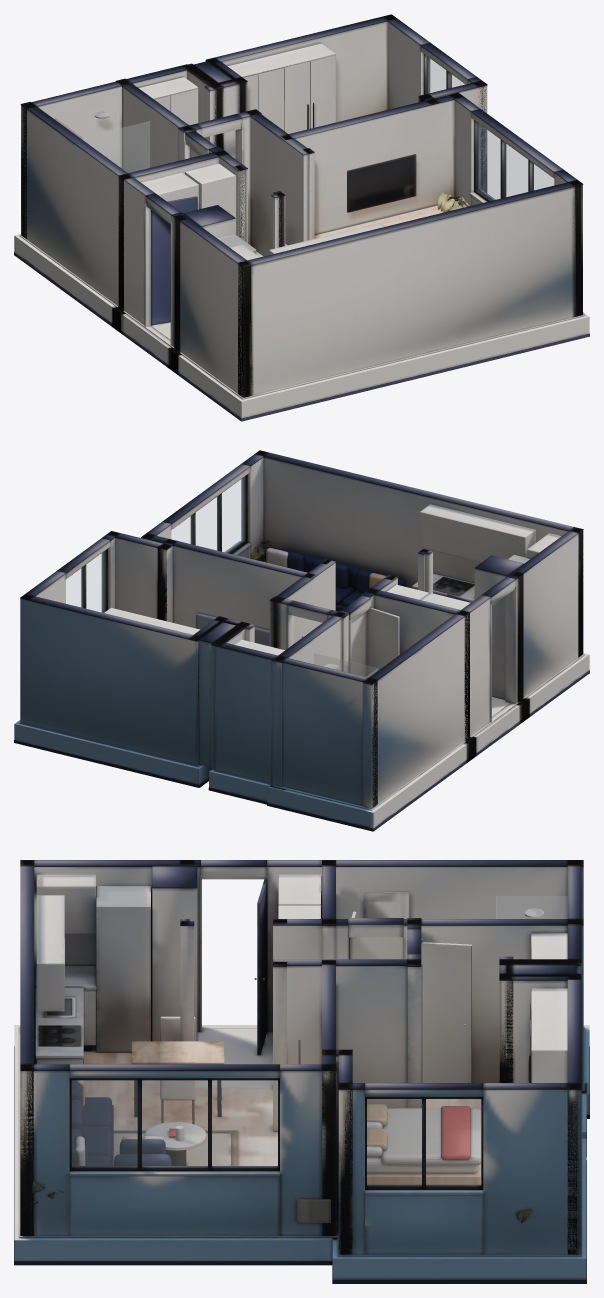
3 views of the same model, one above another, from view 1: azimuth 30°, elevation 25°; view 2: azimuth 150°, elevation 25°; view 3: azimuth 270°, elevation 25° (orthographic). The views are drawn at different scales.
Visible parts, largest first — view 1: plan, glass0_m, sg.001_m, glass1_m; view 2: plan, glass0_m, glass1_m, sg.001_m; view 3: plan, glass0_m, glass1_m, sg_m.
Part boxes in pixels (x1,y1,x2,y2): plan: (14,14,589,421); glass0_m: (476,122,553,200); sg.001_m: (82,121,149,172); glass1_m: (426,56,464,93); plan: (14,450,589,831); glass0_m: (171,477,244,552); glass1_m: (66,551,105,612); sg.001_m: (314,653,377,676); plan: (14,860,589,1283); glass0_m: (72,1080,277,1166); glass1_m: (367,1099,480,1185); sg_m: (496,896,567,918).
Size of the model in its own units: 6.85 by 2.62 by 7.12.
2 materials, 1 textured.
